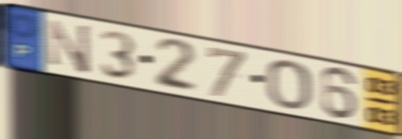2: (152, 36, 200, 93)
3: (99, 29, 139, 82)
6: (319, 66, 357, 121)
7: (206, 45, 247, 99)
N: (46, 17, 92, 77)
O: (265, 58, 314, 112)
